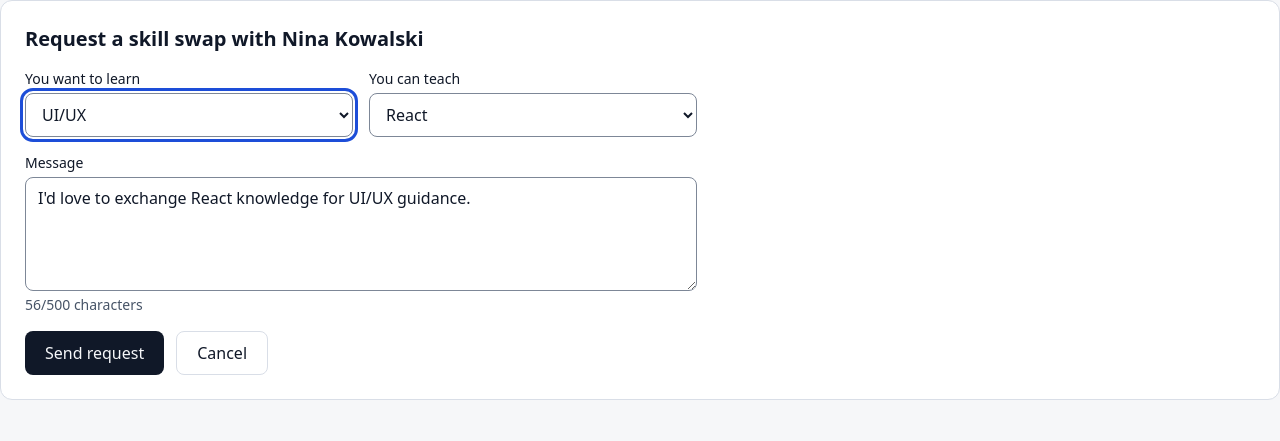
Scenario: RequestForm: validation › requires a message
The width and height of the screenshot is (1280, 441).
Clear the text box labelled "Message" at [361, 234], box [25, 177, 697, 291]
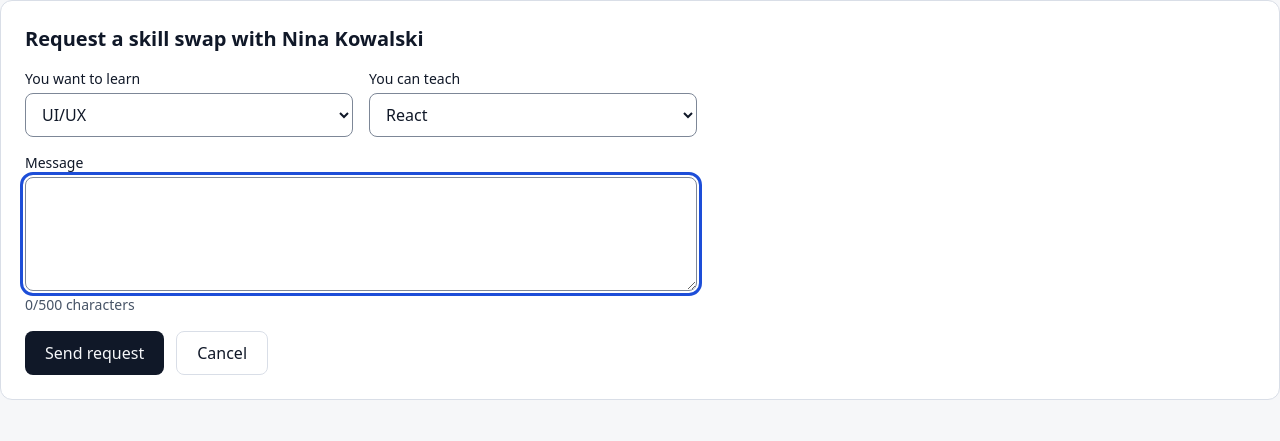
Click the button "Send request" at [95, 353], box [25, 331, 164, 375]
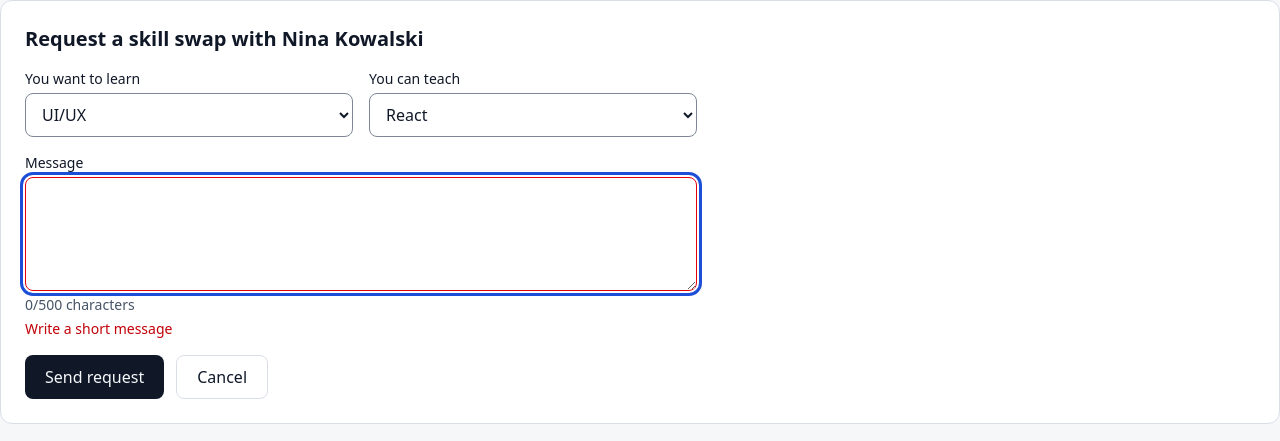
Check: the text "Write a short message" is shown, box [25, 319, 172, 338]
